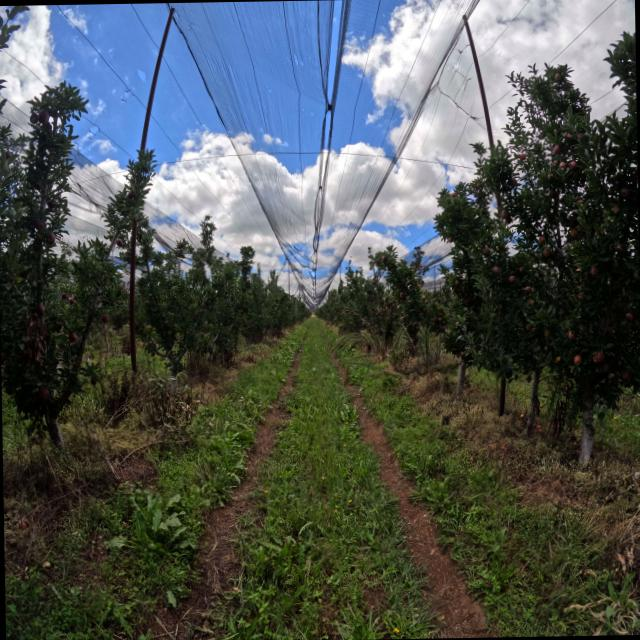-FireBlight-: (24, 310, 48, 364)
